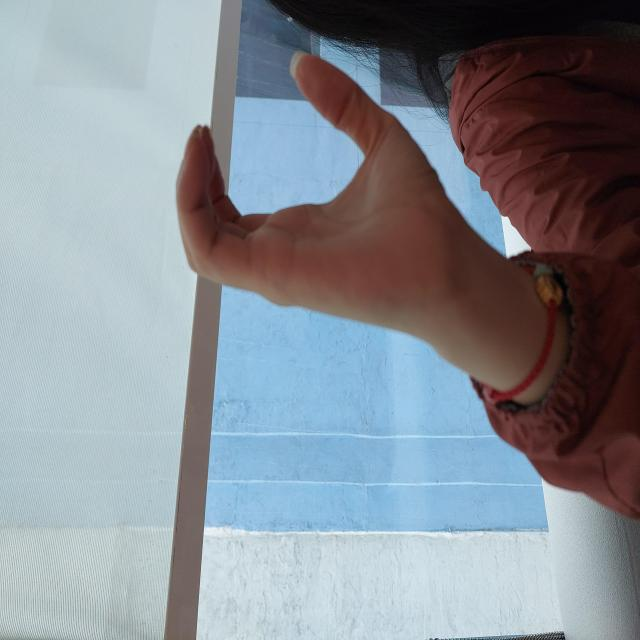C: (307, 173, 589, 453)
